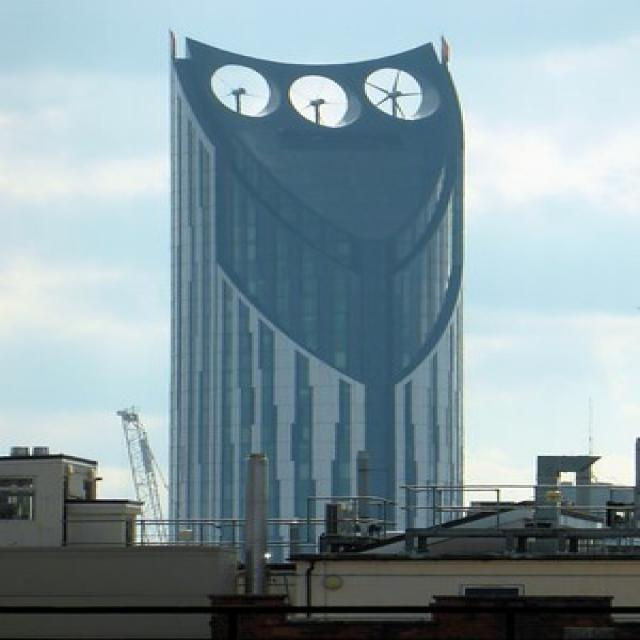Normal_building: (160, 26, 469, 556)
